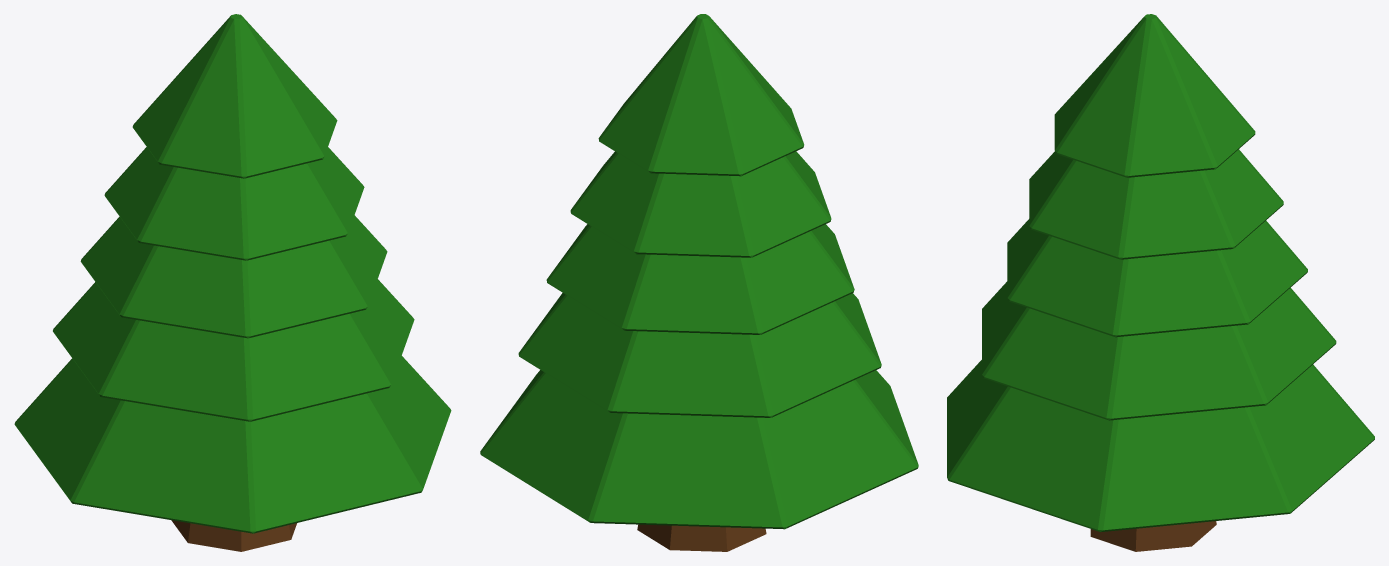
Rendered from tree2.fbx.
The picture shows the model from 3 angles, left to right: view 1: azimuth 30°, elevation 25°; view 2: azimuth 150°, elevation 25°; view 3: azimuth 270°, elevation 25°; orthographic projection.
Visible parts, largest first — view 1: tree; view 2: tree; view 3: tree.
Part boxes in pixels (left/top/right/bottom): tree: left=14, top=14, right=451, bottom=551; tree: left=480, top=14, right=918, bottom=551; tree: left=947, top=14, right=1374, bottom=551.
Bounding box in the file's own units: 277 × 354 × 270.
